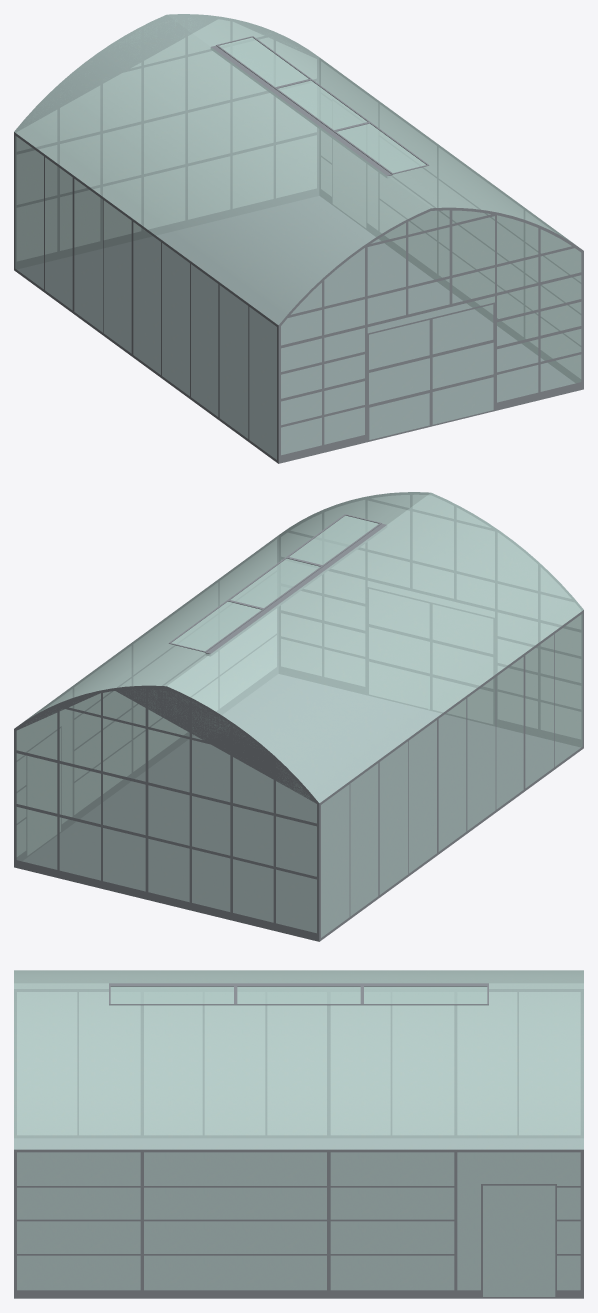
The model's file is wenshi.fbx.
The picture shows the model from 3 angles, top to bottom: view 1: azimuth 30°, elevation 25°; view 2: azimuth 150°, elevation 25°; view 3: azimuth 270°, elevation 25°; orthographic projection. The views are drawn at different scales.
Parts seen in each view (by area): view 1: Model; view 2: Model; view 3: Model.
Part boxes in pixels (x1=…): Model: x1=14, y1=14, x2=583, y2=463; Model: x1=14, y1=492, x2=583, y2=941; Model: x1=14, y1=970, x2=583, y2=1298.
Bounding box in the file's own units: 6 × 4.11 × 9.
